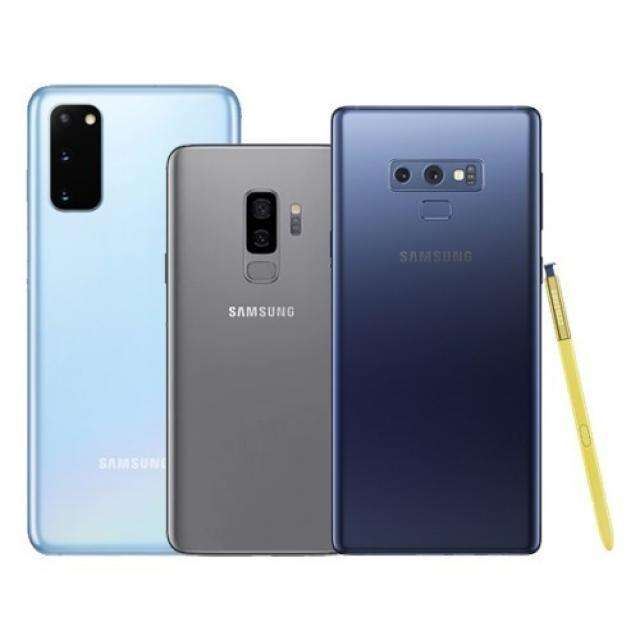phone: (333, 105, 544, 556)
